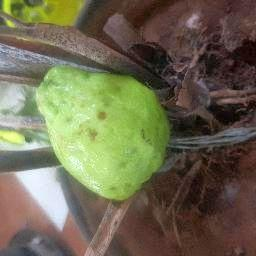guava: (30, 60, 173, 205)
